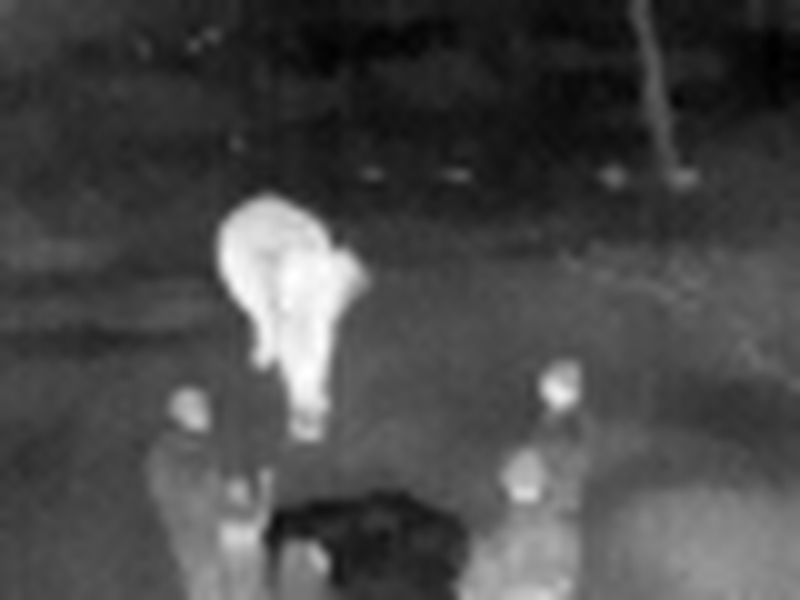elephant: (214, 191, 375, 452)
